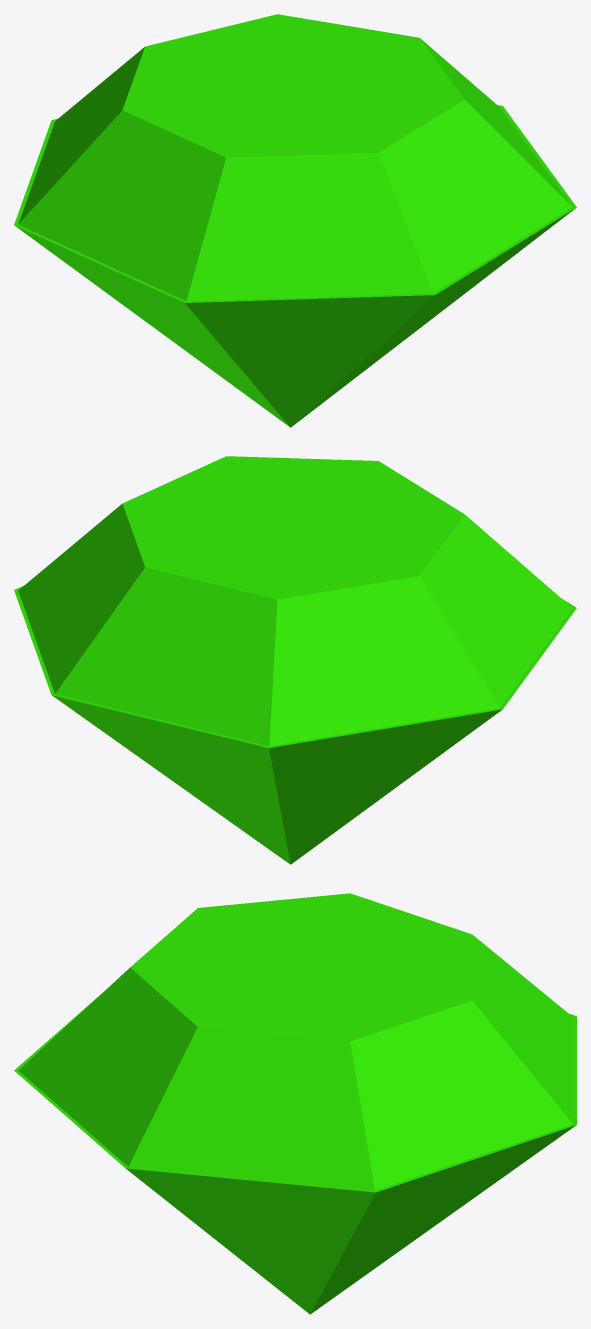
Rendered from Chaos_Emerald2.fbx.
The picture shows the model from 3 angles, top to bottom: view 1: azimuth 30°, elevation 25°; view 2: azimuth 150°, elevation 25°; view 3: azimuth 270°, elevation 25°; orthographic projection. The views are drawn at different scales.
Visible parts, largest first — view 1: Cone; view 2: Cone; view 3: Cone.
Boxes of the visible parts, <box> form: Cone: <box>14,14,576,427</box>; Cone: <box>14,456,576,864</box>; Cone: <box>14,893,576,1314</box>.
Bounding box in the file's own units: 195 × 129 × 190.
